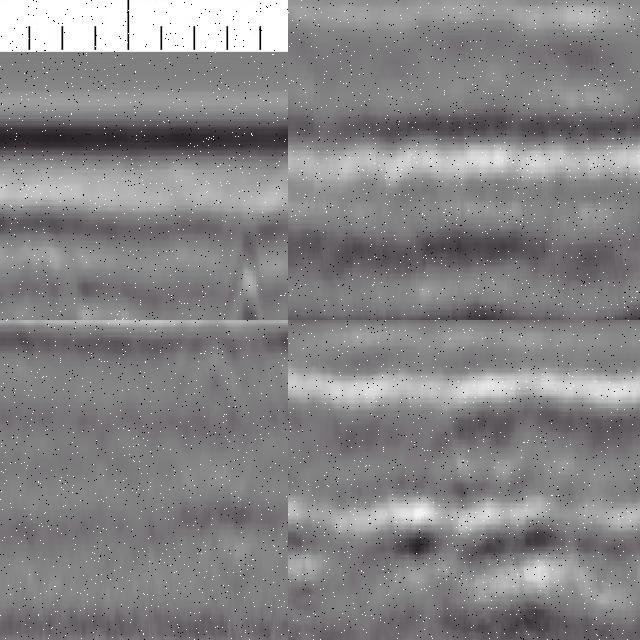crack: (220, 221, 260, 321)
